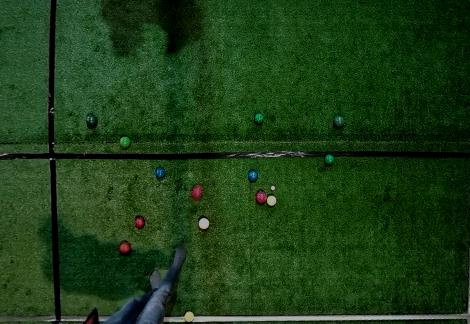blue: (248, 169, 258, 182), (155, 167, 165, 178)
green: (333, 115, 345, 128), (120, 136, 131, 148), (86, 114, 98, 125), (324, 154, 335, 165), (254, 112, 264, 124)
red: (119, 241, 131, 255), (191, 185, 203, 199), (198, 217, 210, 229), (256, 190, 266, 203), (134, 217, 145, 228)
vline: (1, 1, 62, 323), (464, 1, 469, 323)
white: (271, 186, 275, 190)
yellow: (266, 195, 277, 206), (184, 311, 195, 322)
